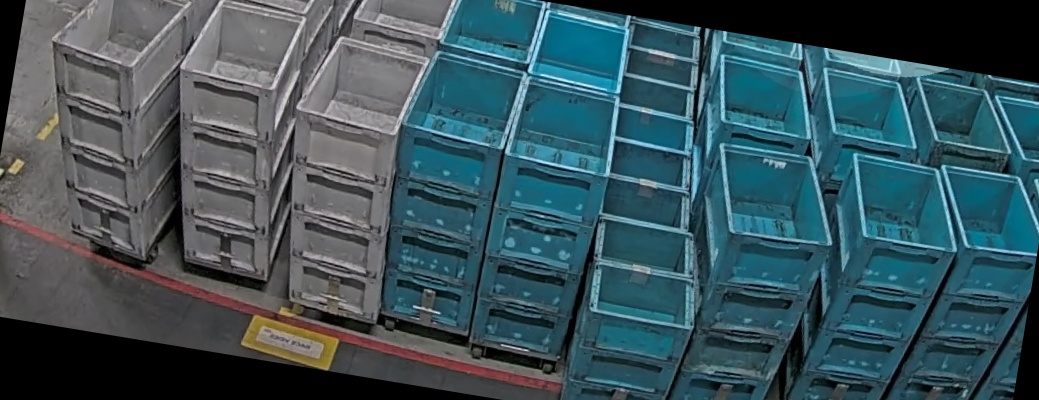4G: (17, 0, 211, 264), (263, 30, 432, 323), (149, 0, 324, 282)
B4: (777, 147, 970, 400), (668, 140, 847, 400), (368, 46, 527, 338), (471, 74, 623, 365), (874, 159, 1039, 400)
B8: (560, 215, 710, 400)
